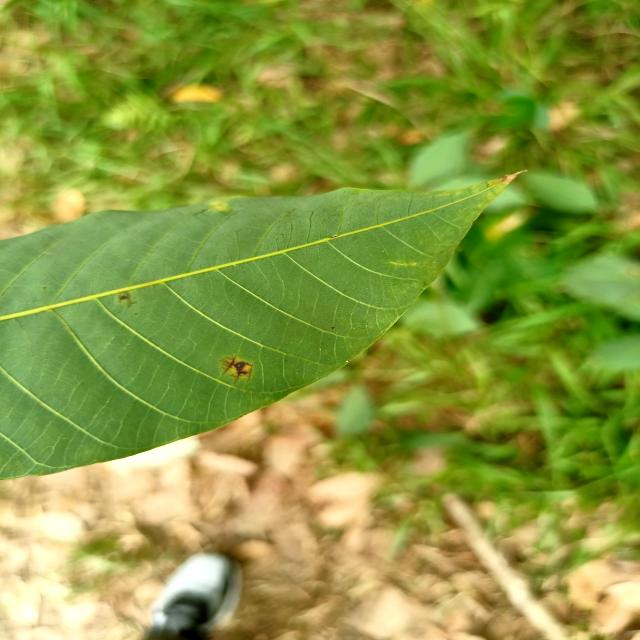Corynespora: (219, 354, 254, 384)
